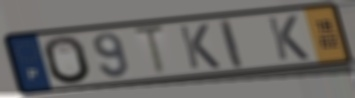9: (91, 31, 131, 79)
I: (216, 17, 246, 70)
K: (264, 14, 312, 62), (176, 23, 223, 71)
O: (41, 35, 94, 86)
T: (131, 24, 170, 78)
